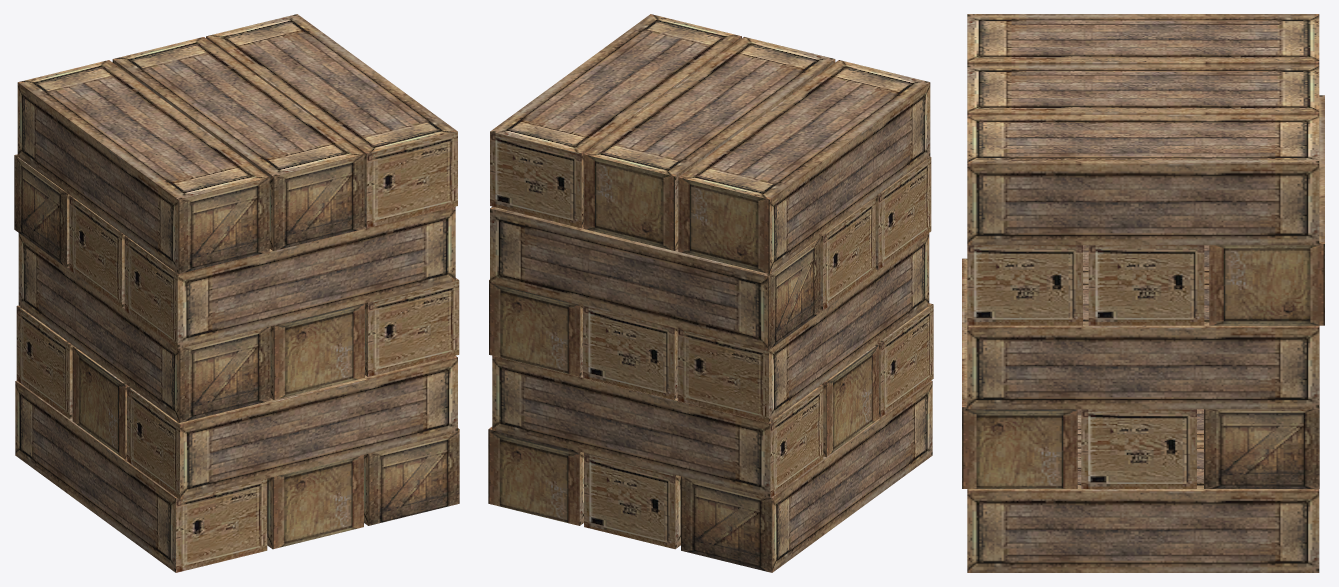
The model's file is WpnCt5.glb.
3 views of the same model, side by side, from view 1: azimuth 30°, elevation 25°; view 2: azimuth 150°, elevation 25°; view 3: azimuth 270°, elevation 25° (orthographic). The views are drawn at different scales.
Parts seen in each view (by area): view 1: _WpnCt5; view 2: _WpnCt5; view 3: _WpnCt5.
Boxes of the visible parts, x1=… form: _WpnCt5: x1=14, y1=14, x2=459, y2=572; _WpnCt5: x1=488, y1=14, x2=933, y2=572; _WpnCt5: x1=962, y1=14, x2=1324, y2=572.
Bounding box in the file's own units: 1.99 × 2.5 × 2.01.
Materials: 1 (1 with a texture image).
